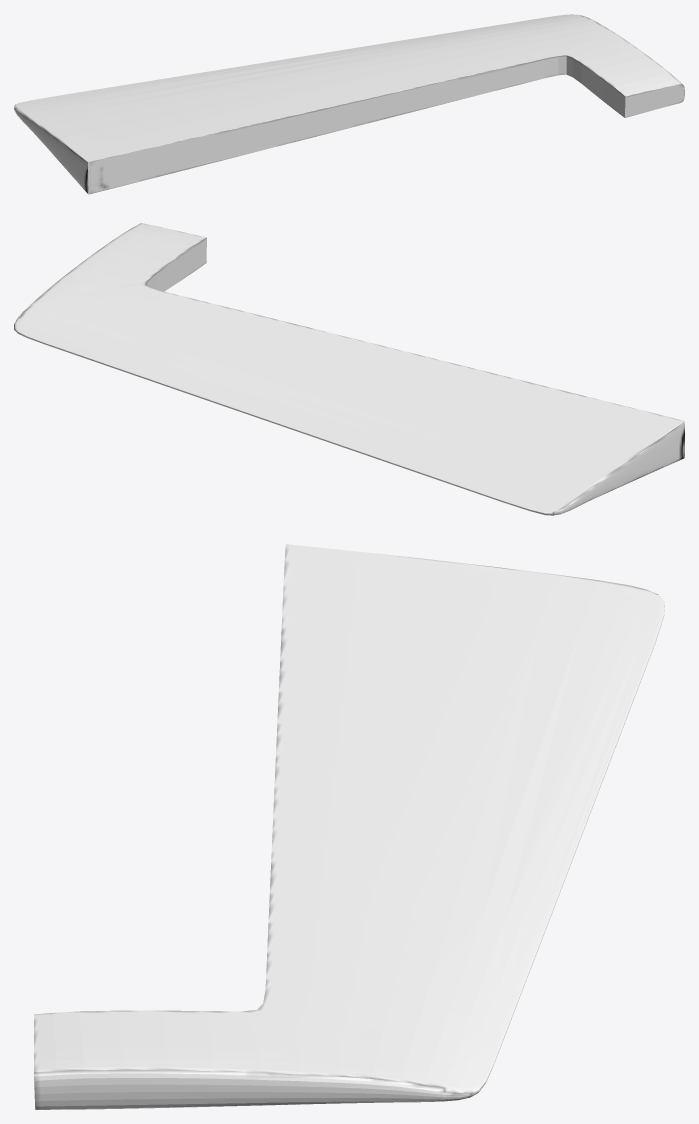
File: leftTail.obj
The picture shows the model from 3 angles, top to bottom: view 1: azimuth 30°, elevation 25°; view 2: azimuth 150°, elevation 25°; view 3: azimuth 270°, elevation 25°; orthographic projection. The views are drawn at different scales.
Visible parts, largest first — view 1: Cessna172.001; view 2: Cessna172.001; view 3: Cessna172.001.
Boxes of the visible parts, x1,y1,x2,y2 form: Cessna172.001: (14, 14, 684, 194); Cessna172.001: (14, 223, 684, 515); Cessna172.001: (34, 544, 664, 1109).
Bounding box in the file's own units: 5.72 × 0.3287 × 2.92.
Materials: 1 (1 with a texture image).
